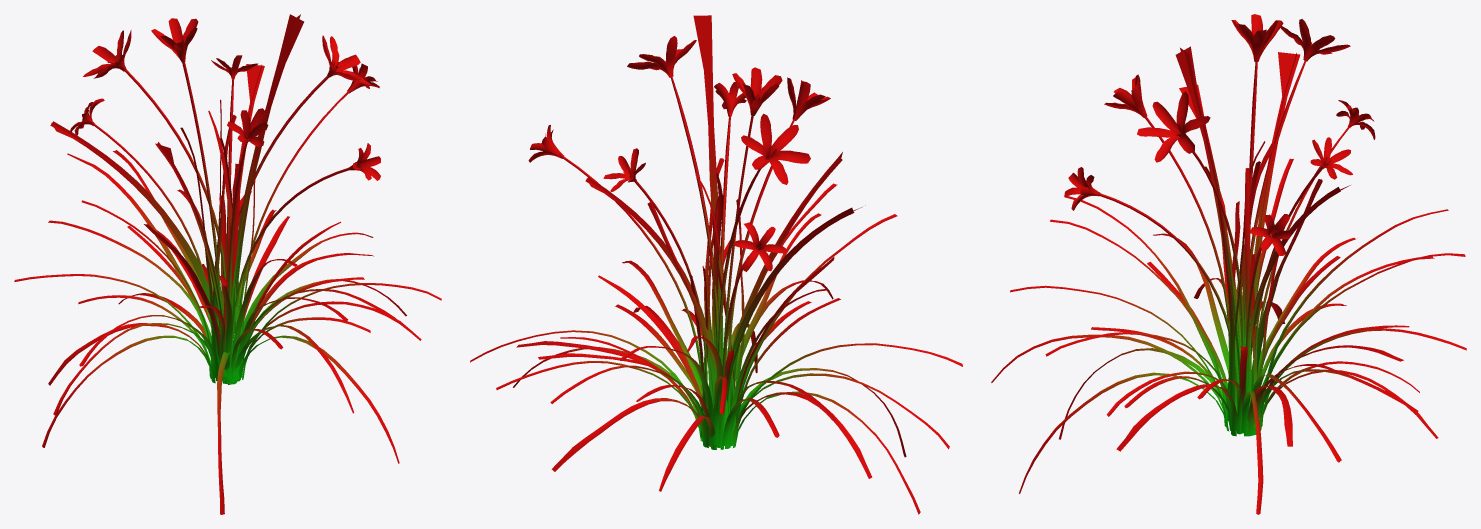
The model's file is White Windflower_LOD0_Var3_sktlN.fbx.
3 renders of one model, left to right at view 1: azimuth 30°, elevation 25°; view 2: azimuth 150°, elevation 25°; view 3: azimuth 270°, elevation 25°, orthographic. The views are drawn at different scales.
Parts seen in each view (by area): view 1: _df9b_Var3_LOD0; view 2: _df9b_Var3_LOD0; view 3: _df9b_Var3_LOD0.
Boxes of the visible parts, <box> form: _df9b_Var3_LOD0: <box>14,14,441,514</box>; _df9b_Var3_LOD0: <box>470,15,962,514</box>; _df9b_Var3_LOD0: <box>991,14,1466,514</box>.
Size of the model in its own units: 81.02 by 85.71 by 80.18.
